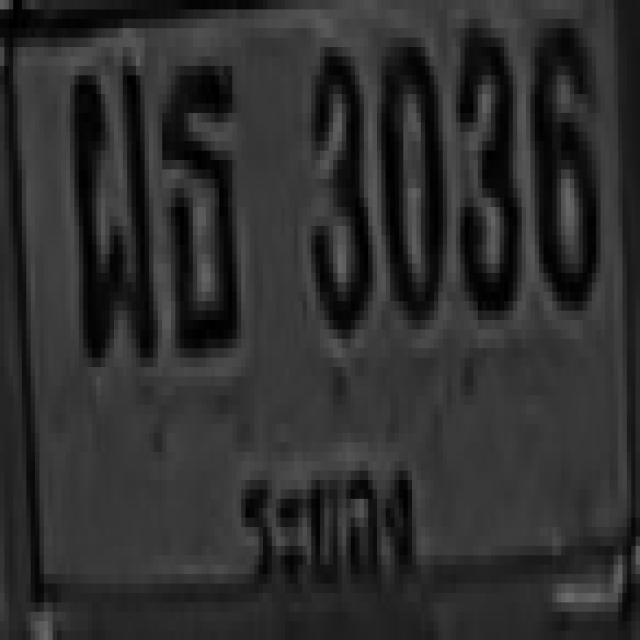0: (377, 28, 438, 320)
3: (307, 38, 368, 330), (456, 14, 517, 306)
33ThorThong: (158, 56, 237, 348)
37PhorPhueng: (66, 56, 153, 358)
6: (526, 10, 596, 302)
Rayong: (226, 442, 432, 612)
